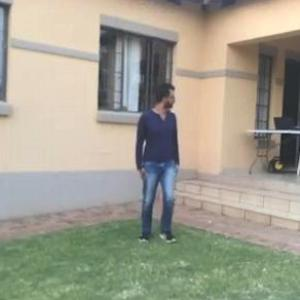follow: (134, 75, 187, 254)
